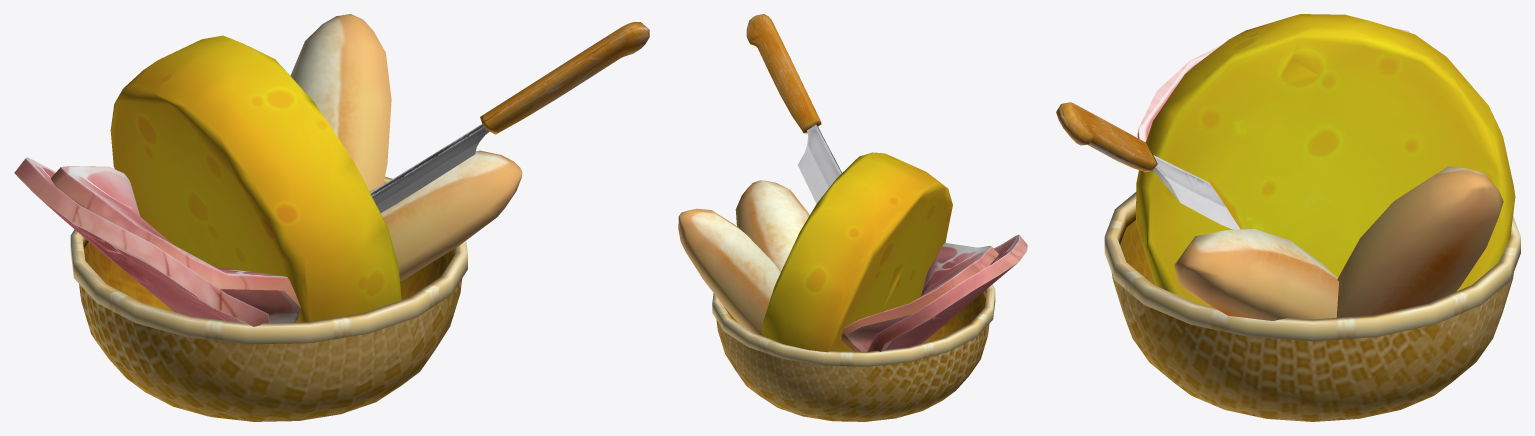
Rendered from food.fbx.
3 renders of one model, left to right at view 1: azimuth 30°, elevation 25°; view 2: azimuth 150°, elevation 25°; view 3: azimuth 270°, elevation 25°, orthographic. The views are drawn at different scales.
Visible parts, largest first — view 1: polySurface9; view 2: polySurface9; view 3: polySurface9.
Part boxes in pixels (left/top/right/bottom): polySurface9: left=14, top=14, right=649, bottom=421; polySurface9: left=678, top=14, right=1027, bottom=421; polySurface9: left=1056, top=14, right=1520, bottom=421.
Size of the model in its own units: 58.66 by 44.75 by 46.78.
